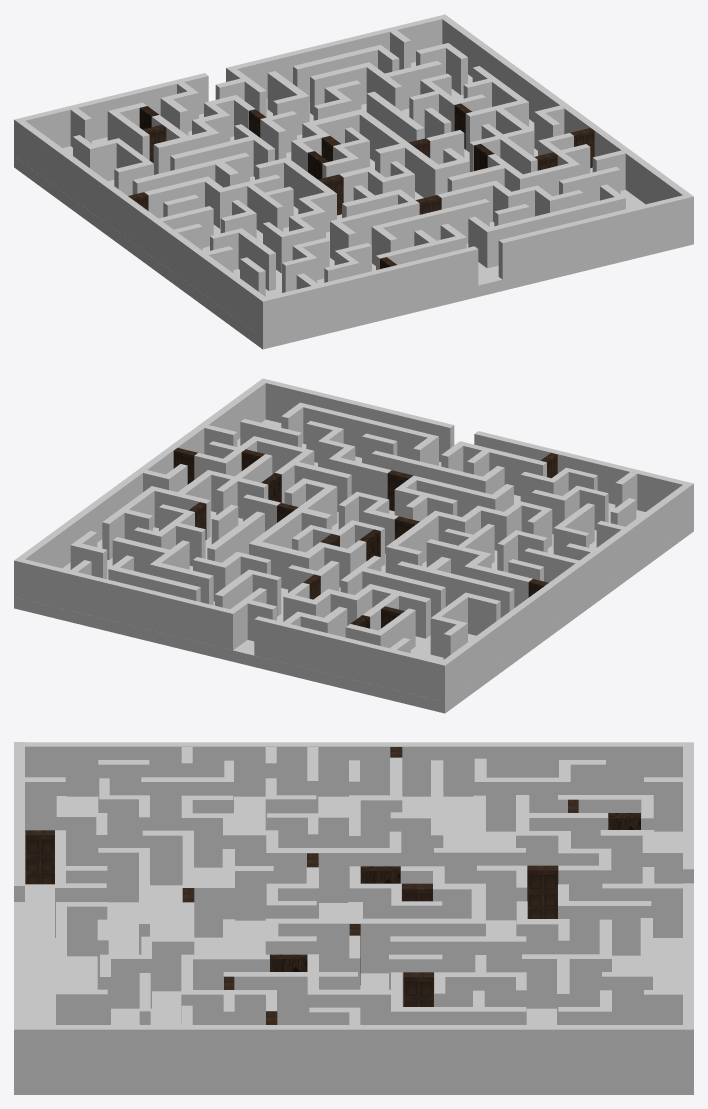
Rendered from Maze.fbx.
3 views of the same model, one above another, from view 1: azimuth 30°, elevation 25°; view 2: azimuth 150°, elevation 25°; view 3: azimuth 270°, elevation 25° (orthographic). The views are drawn at different scales.
Visible parts, largest first — view 1: Cube.003, Cube, Floor, Cube.002, Cube.001, Cube.018, Cube.022, Cube.037, Cube.036, Cube.029, Cube.006, Cube.013 (+35 smaller); view 2: Cube.002, Cube, Floor, Cube.003, Cube.001, Cube.018, Cube.022, Cube.036, Cube.029, Cube.006, Cube.033, Cube.037 (+34 smaller); view 3: Cube.001, Floor, Cube, Cube.018, Cube.036, Cube.022, Cube.027, Cube.006, Cube.029, Cube.037, Cube.009, Cube.034 (+36 smaller).
Part boxes in pixels (bbox=[...]): Cube.003: bbox=[259, 193, 693, 337]; Cube: bbox=[14, 119, 269, 338]; Floor: bbox=[14, 62, 693, 349]; Cube.002: bbox=[14, 14, 448, 147]; Cube.001: bbox=[442, 17, 693, 234]; Cube.018: bbox=[291, 109, 469, 197]; Cube.022: bbox=[463, 66, 537, 174]; Cube.037: bbox=[144, 174, 293, 233]; Cube.036: bbox=[255, 157, 336, 273]; Cube.029: bbox=[447, 133, 590, 196]; Cube.006: bbox=[151, 95, 255, 174]; Cube.013: bbox=[310, 60, 441, 115]; Cube.002: bbox=[14, 557, 448, 701]; Cube: bbox=[442, 485, 689, 701]; Floor: bbox=[14, 419, 693, 713]; Cube.003: bbox=[259, 378, 693, 522]; Cube.001: bbox=[18, 381, 265, 568]; Cube.018: bbox=[249, 478, 366, 589]; Cube.022: bbox=[102, 454, 272, 560]; Cube.036: bbox=[385, 501, 552, 575]; Cube.029: bbox=[194, 436, 351, 512]; Cube.006: bbox=[283, 582, 430, 638]; Cube.033: bbox=[281, 402, 438, 465]; Cube.037: bbox=[426, 524, 532, 607]; Cube.001: bbox=[14, 1025, 693, 1079]; Floor: bbox=[14, 796, 693, 1094]; Cube: bbox=[25, 742, 682, 796]; Cube.018: bbox=[265, 866, 485, 973]; Cube.036: bbox=[181, 795, 401, 902]; Cube.022: bbox=[223, 954, 526, 1024]; Cube.027: bbox=[142, 830, 273, 937]; Cube.006: bbox=[516, 795, 611, 900]; Cube.029: bbox=[181, 919, 276, 1024]; Cube.037: bbox=[267, 757, 402, 847]; Cube.009: bbox=[474, 758, 605, 831]; Cube.034: bbox=[100, 902, 194, 1024].
Size of the model in its own units: 4000 by 424 by 4000.
